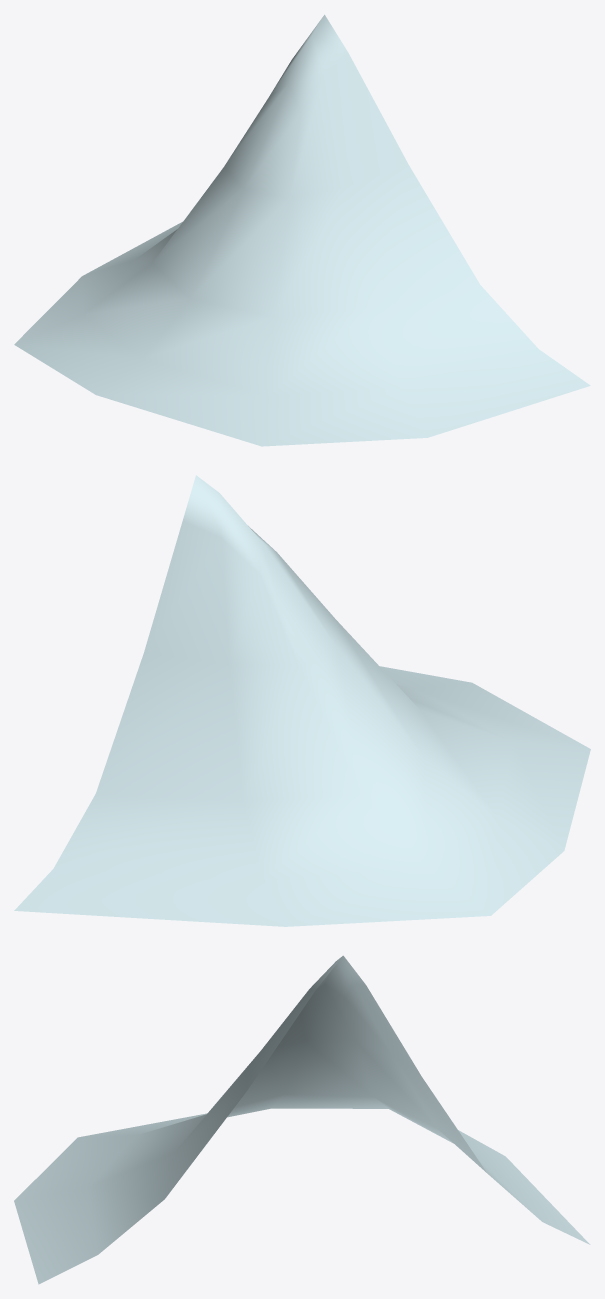
The model's file is mdl_snowPile01.fbx.
The picture shows the model from 3 angles, top to bottom: view 1: azimuth 30°, elevation 25°; view 2: azimuth 150°, elevation 25°; view 3: azimuth 270°, elevation 25°; orthographic projection. The views are drawn at different scales.
Parts seen in each view (by area): view 1: mdl_snowPile02; view 2: mdl_snowPile02; view 3: mdl_snowPile02.
Part boxes in pixels (left/top/right/bottom): mdl_snowPile02: left=14, top=14, right=590, bottom=446; mdl_snowPile02: left=14, top=475, right=590, bottom=926; mdl_snowPile02: left=14, top=955, right=590, bottom=1284.
Size of the model in its own units: 144 by 99.96 by 189.
Materials: 1 (1 with a texture image).
